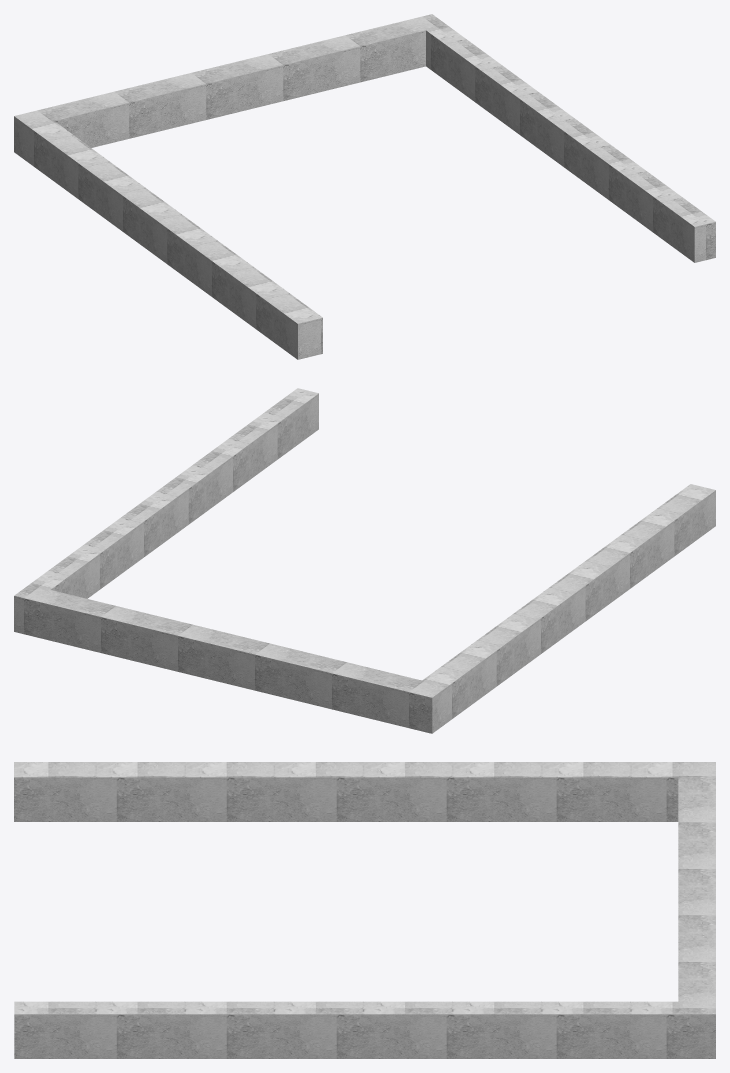
File: Dat3.obj
The picture shows the model from 3 angles, top to bottom: view 1: azimuth 30°, elevation 25°; view 2: azimuth 150°, elevation 25°; view 3: azimuth 270°, elevation 25°; orthographic projection. The views are drawn at different scales.
Parts seen in each view (by area): view 1: Mesh1 Group1 Model; view 2: Mesh1 Group1 Model; view 3: Mesh1 Group1 Model.
Boxes of the visible parts, left/top/right/bottom form: Mesh1 Group1 Model: left=14, top=14, right=715, bottom=359; Mesh1 Group1 Model: left=14, top=388, right=715, bottom=733; Mesh1 Group1 Model: left=14, top=762, right=715, bottom=1058.
Size of the model in its own units: 100462 by 8281 by 118098.
2 materials, 1 textured.
